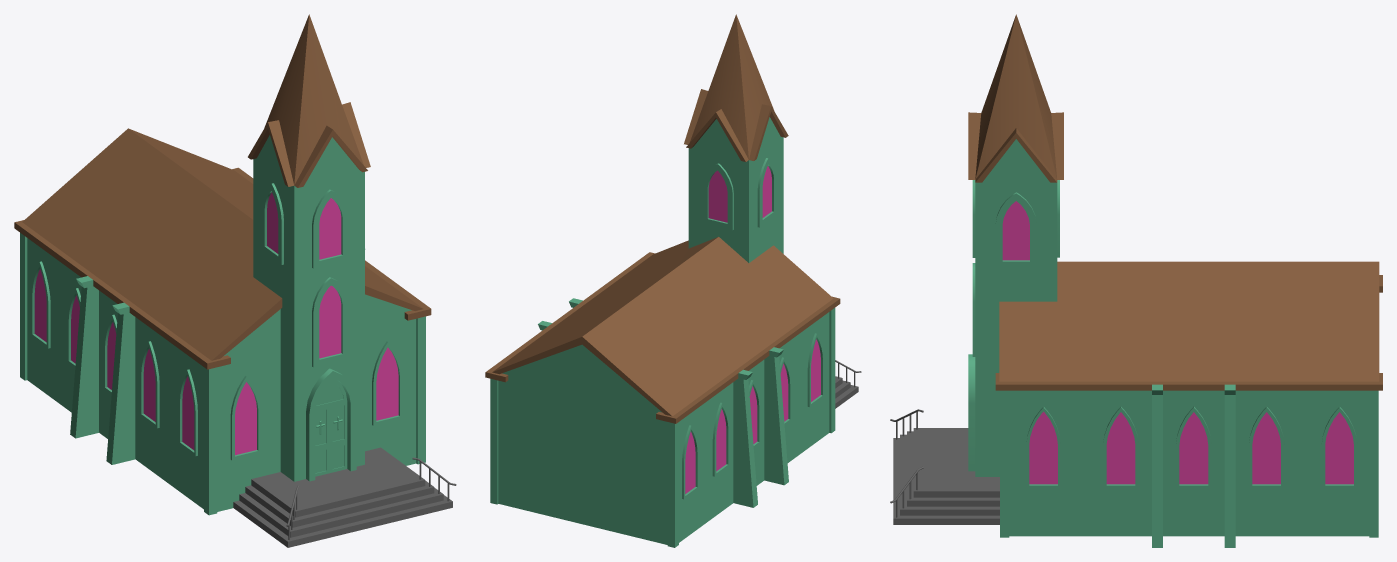
File: church.fbx
3 renders of one model, left to right at view 1: azimuth 30°, elevation 25°; view 2: azimuth 150°, elevation 25°; view 3: azimuth 270°, elevation 25°, orthographic. The views are drawn at different scales.
Visible parts, largest first — view 1: Church; view 2: Church; view 3: Church.
Part boxes in pixels (left/top/right/bottom): Church: left=14, top=14, right=456, bottom=547; Church: left=485, top=14, right=861, bottom=547; Church: left=890, top=14, right=1382, bottom=547.
Bounding box in the file's own units: 1100 × 1900 × 1803.
